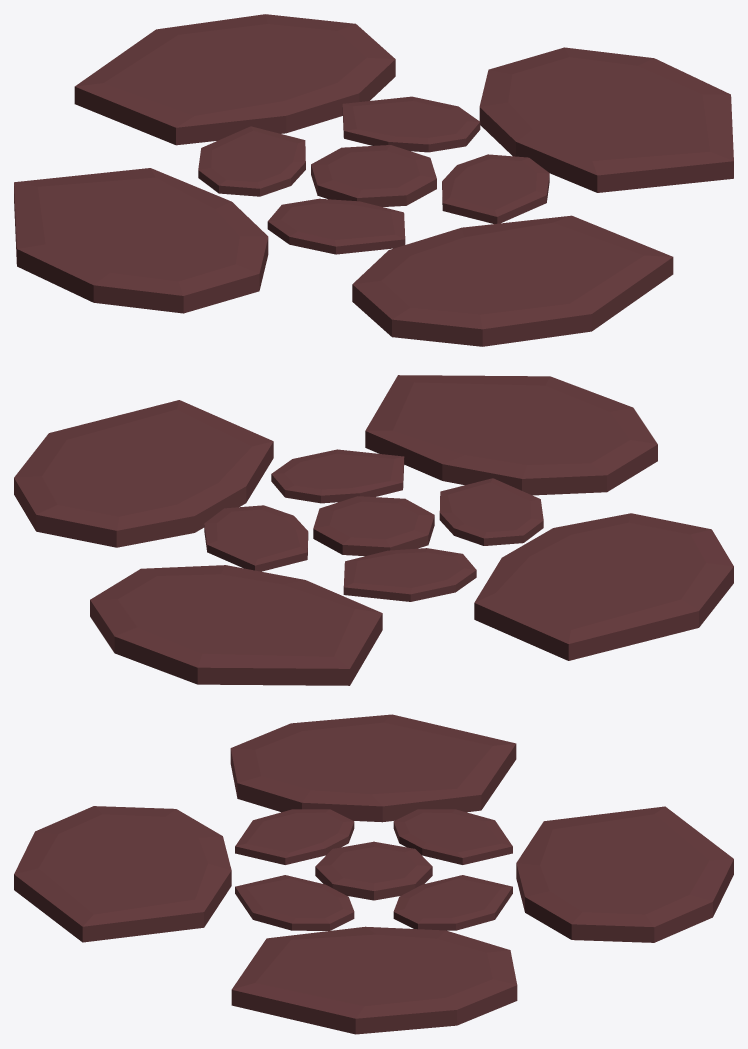
File: ground-s2.fbx
3 renders of one model, top to bottom at view 1: azimuth 30°, elevation 25°; view 2: azimuth 150°, elevation 25°; view 3: azimuth 270°, elevation 25°, orthographic. The views are drawn at different scales.
Parts seen in each view (by area): view 1: Cylinder.022, Cylinder.021, Cylinder.020, Cylinder.023, Cylinder.002, Cylinder.009, Cylinder.003, Cylinder.006, Cylinder.012; view 2: Cylinder.021, Cylinder.022, Cylinder.020, Cylinder.023, Cylinder.002, Cylinder.006, Cylinder.012, Cylinder.009, Cylinder.003; view 3: Cylinder.023, Cylinder.020, Cylinder.021, Cylinder.022, Cylinder.002, Cylinder.012, Cylinder.003, Cylinder.006, Cylinder.009.
Part boxes in pixels (bbox=[...]): Cylinder.022: bbox=[352, 215, 673, 346]; Cylinder.021: bbox=[74, 14, 395, 145]; Cylinder.020: bbox=[14, 168, 268, 313]; Cylinder.023: bbox=[479, 47, 733, 192]; Cylinder.002: bbox=[311, 145, 436, 206]; Cylinder.009: bbox=[267, 198, 405, 254]; Cylinder.003: bbox=[342, 96, 480, 152]; Cylinder.006: bbox=[198, 126, 305, 196]; Cylinder.012: bbox=[442, 154, 549, 223]; Cylinder.021: bbox=[90, 565, 382, 685]; Cylinder.022: bbox=[365, 375, 657, 495]; Cylinder.020: bbox=[474, 513, 733, 660]; Cylinder.023: bbox=[14, 400, 273, 547]; Cylinder.002: bbox=[313, 496, 434, 556]; Cylinder.006: bbox=[343, 548, 476, 601]; Cylinder.012: bbox=[271, 449, 404, 503]; Cylinder.009: bbox=[439, 478, 543, 545]; Cylinder.003: bbox=[204, 505, 308, 571]; Cylinder.023: bbox=[231, 926, 517, 1034]; Cylinder.020: bbox=[230, 714, 516, 822]; Cylinder.021: bbox=[516, 806, 733, 942]; Cylinder.022: bbox=[14, 806, 231, 942]; Cylinder.002: bbox=[315, 841, 432, 900]; Cylinder.012: bbox=[235, 875, 354, 930]; Cylinder.003: bbox=[393, 875, 512, 930]; Cylinder.006: bbox=[393, 809, 512, 864]; Cylinder.009: bbox=[235, 809, 354, 864].
Bounding box in the file's own units: 439 × 12.08 × 439.
